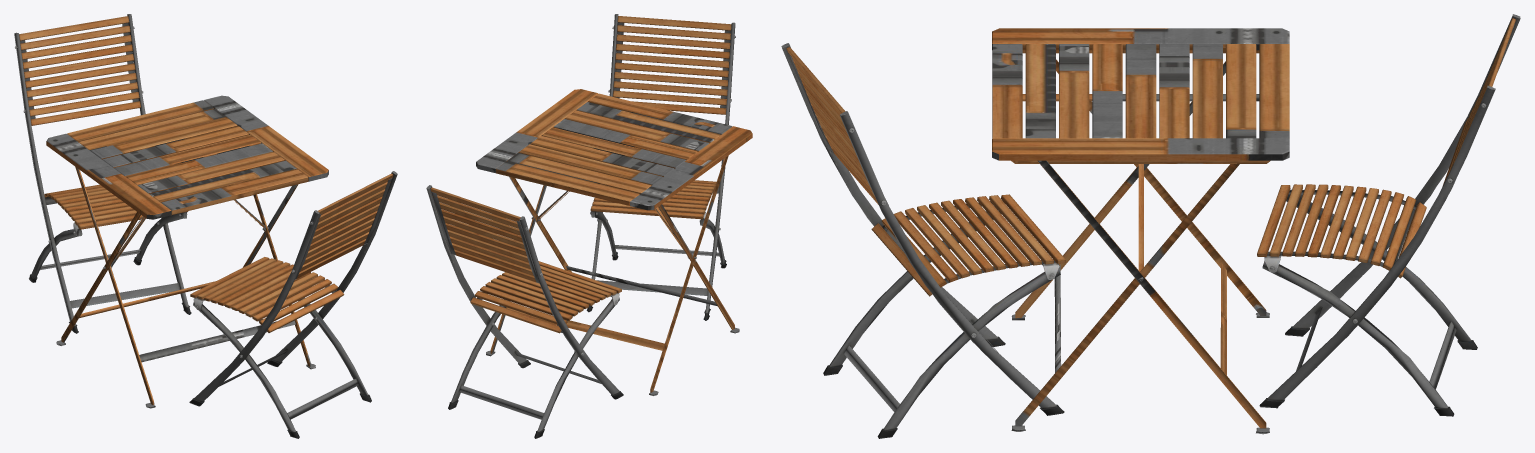
The model's file is cafe-seating.glb.
3 renders of one model, left to right at view 1: azimuth 30°, elevation 25°; view 2: azimuth 150°, elevation 25°; view 3: azimuth 270°, elevation 25°, orthographic. The views are drawn at different scales.
Visible parts, largest first — view 1: outdoor_table_chair_set_01_table, outdoor_table_chair_set_01_chair_02, outdoor_table_chair_set_01_chair_01; view 2: outdoor_table_chair_set_01_table, outdoor_table_chair_set_01_chair_02, outdoor_table_chair_set_01_chair_01; view 3: outdoor_table_chair_set_01_table, outdoor_table_chair_set_01_chair_01, outdoor_table_chair_set_01_chair_02.
Part boxes in pixels (<box>): outdoor_table_chair_set_01_table: <box>46,95,328,408</box>; outdoor_table_chair_set_01_chair_02: <box>14,14,191,333</box>; outdoor_table_chair_set_01_chair_01: <box>189,171,397,438</box>; outdoor_table_chair_set_01_table: <box>476,89,752,395</box>; outdoor_table_chair_set_01_chair_02: <box>426,185,623,438</box>; outdoor_table_chair_set_01_chair_01: <box>586,14,735,320</box>; outdoor_table_chair_set_01_table: <box>992,28,1289,434</box>; outdoor_table_chair_set_01_chair_01: <box>781,43,1065,438</box>; outdoor_table_chair_set_01_chair_02: <box>1257,14,1520,416</box>.
Bounding box in the file's own units: 0.742 × 0.8586 × 1.72.
1 material, 1 textured.
